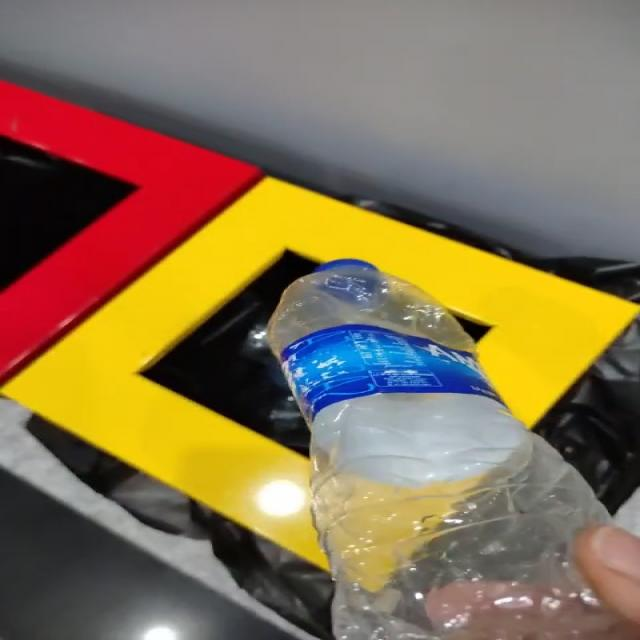plastic: (268, 260, 476, 356)
